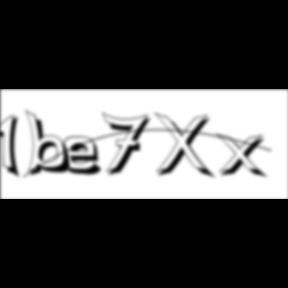1: (0, 114, 26, 182)
7: (102, 111, 156, 179)
X: (154, 112, 218, 182)
b: (25, 109, 78, 179)
e: (63, 135, 109, 178)
x: (216, 132, 272, 181)
